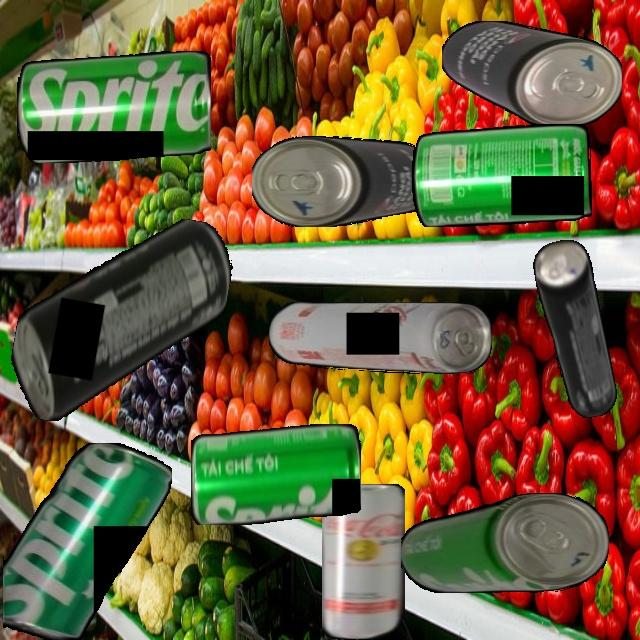debris: (2, 194, 239, 447), (2, 443, 172, 640), (16, 50, 211, 163), (400, 493, 609, 593), (441, 21, 622, 127), (410, 123, 592, 227), (190, 423, 361, 525), (252, 135, 441, 227), (530, 236, 620, 422), (268, 302, 492, 374), (322, 483, 405, 639)
